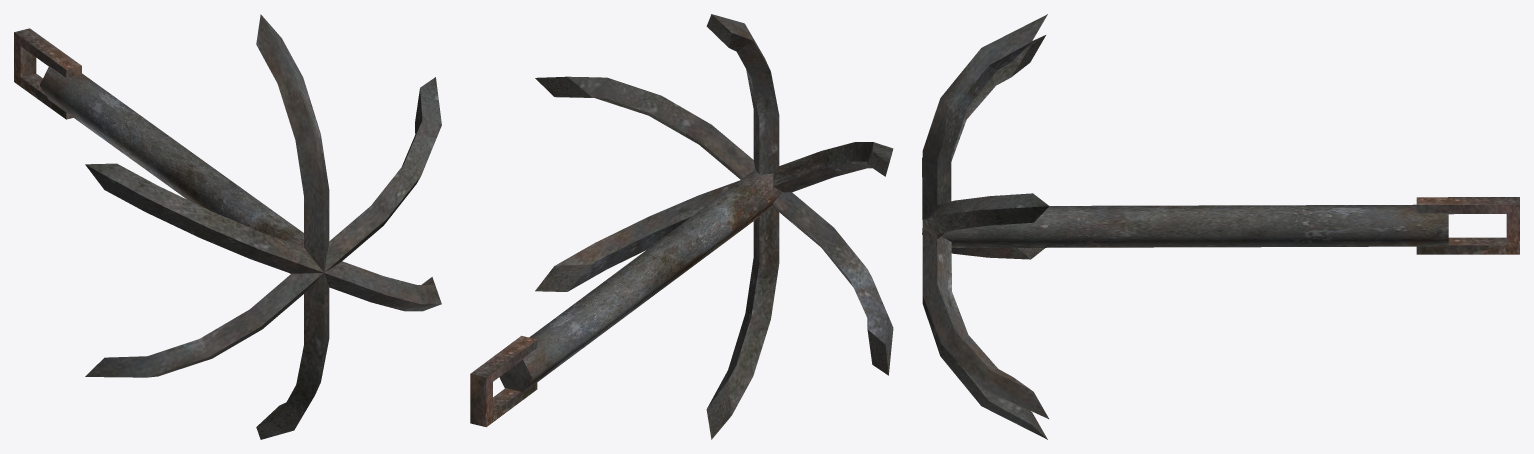
Rendered from vehicle_higgins_grapple_hook.glb.
3 renders of one model, left to right at view 1: azimuth 30°, elevation 25°; view 2: azimuth 150°, elevation 25°; view 3: azimuth 270°, elevation 25°, orthographic.
Size of the model in its own units: 31.64 by 36.54 by 46.48.
Materials: 1 (1 with a texture image).
